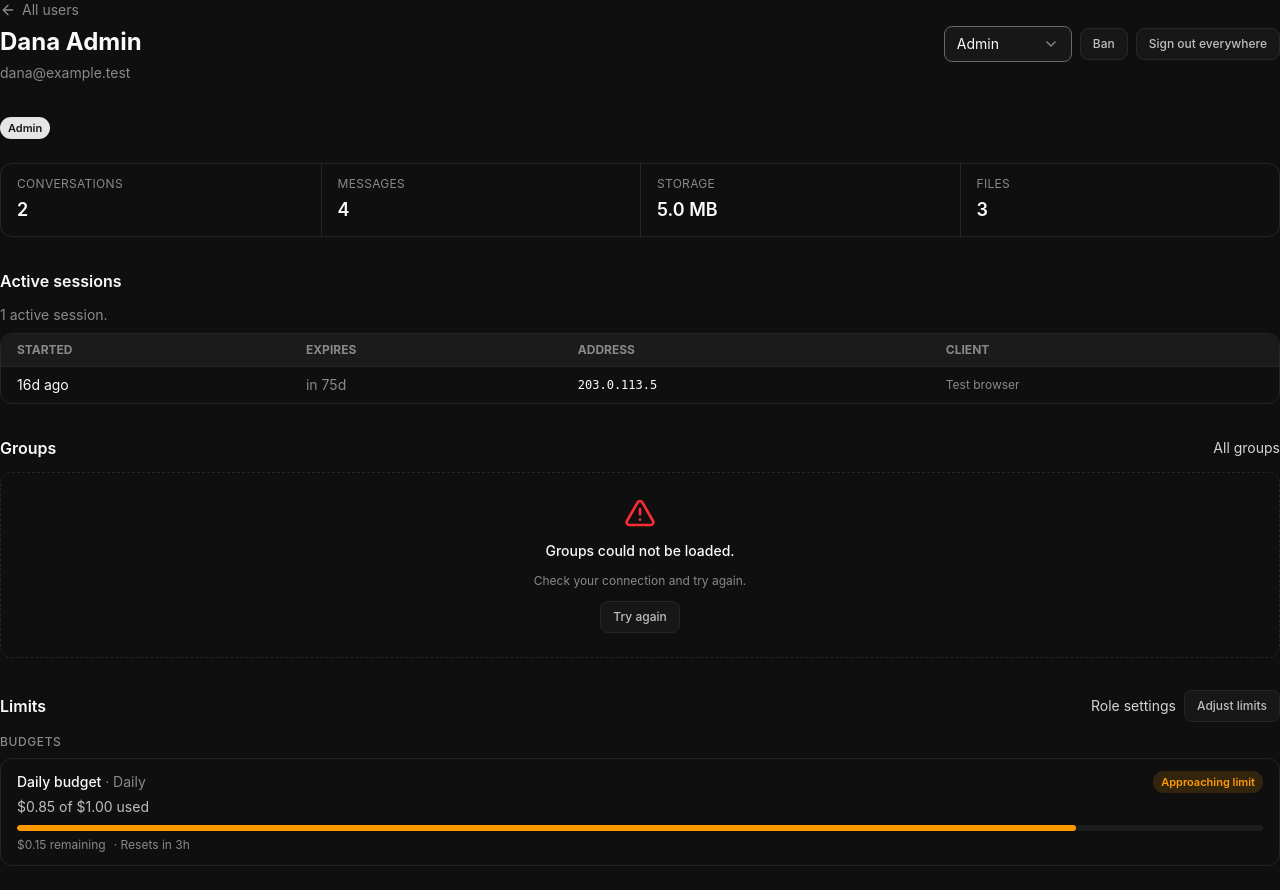
Test: user detail actions › confirms before removing administrator access and sends the new role
Click the dropdown labelled "Admin" at (1008, 44), box [944,26,1072,62]
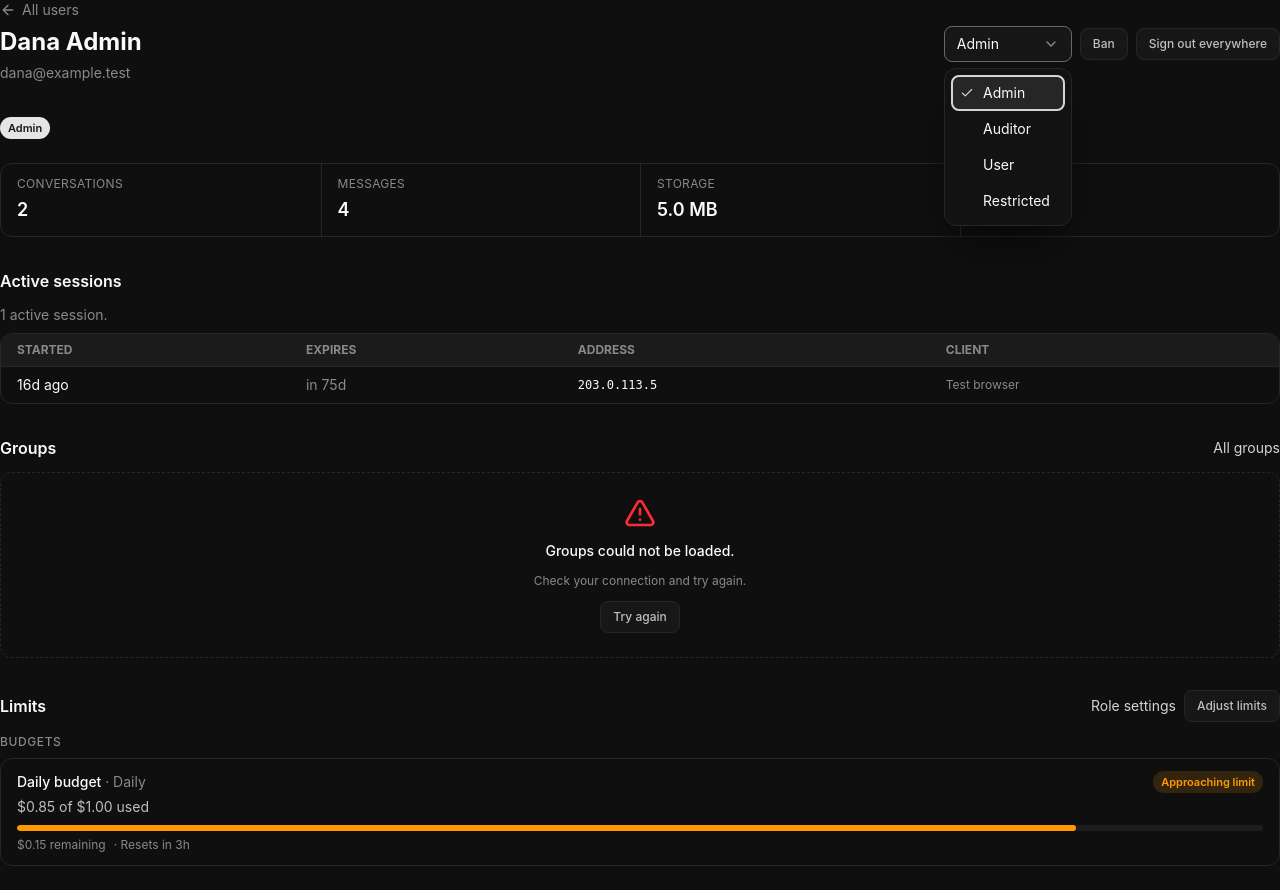
Click the option "User" at (999, 164), box [983,156,1014,173]
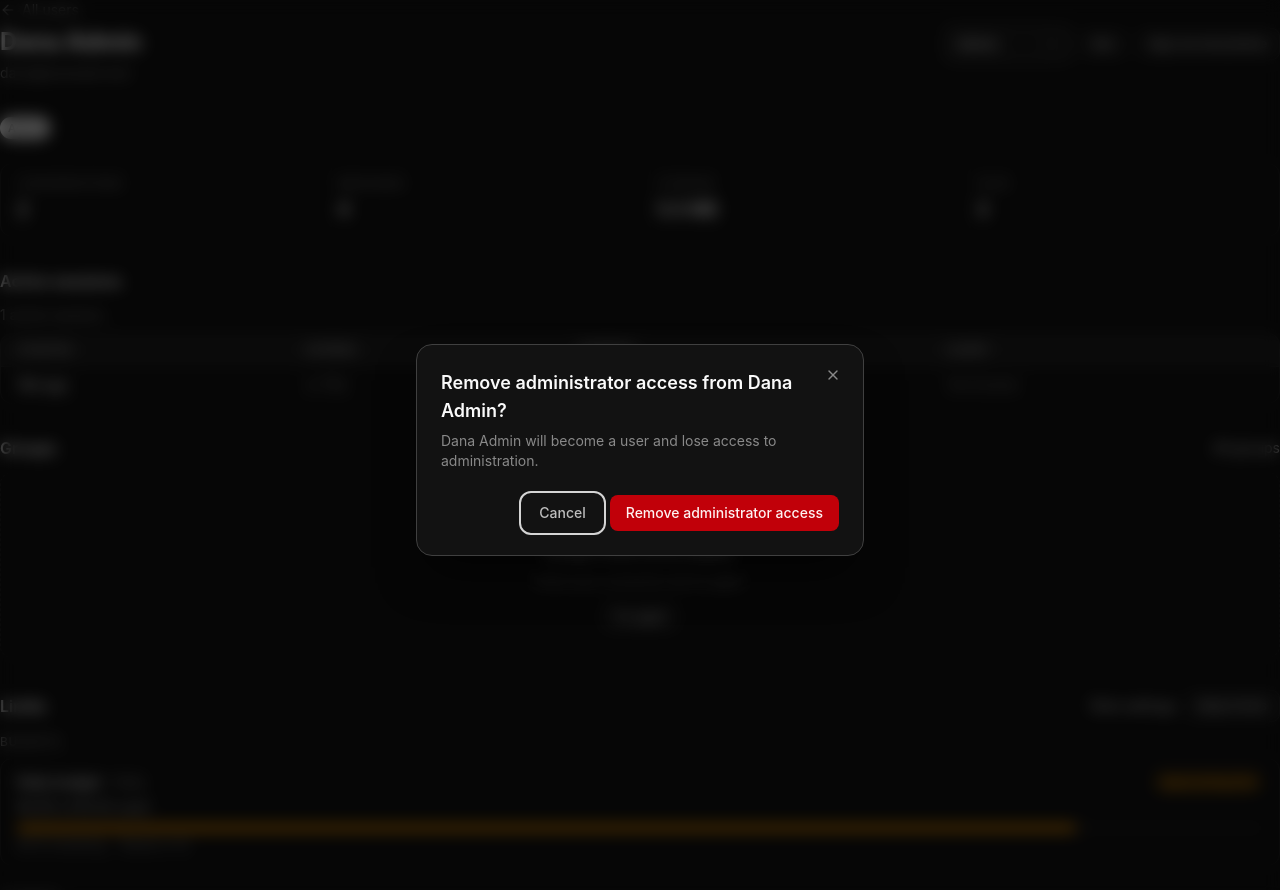
Expected: the dialog shows "Remove administrator access from Dana Admin?", [441,372,792,421]
Click the button "Remove administrator access" at (724, 513), box [610,495,839,531]
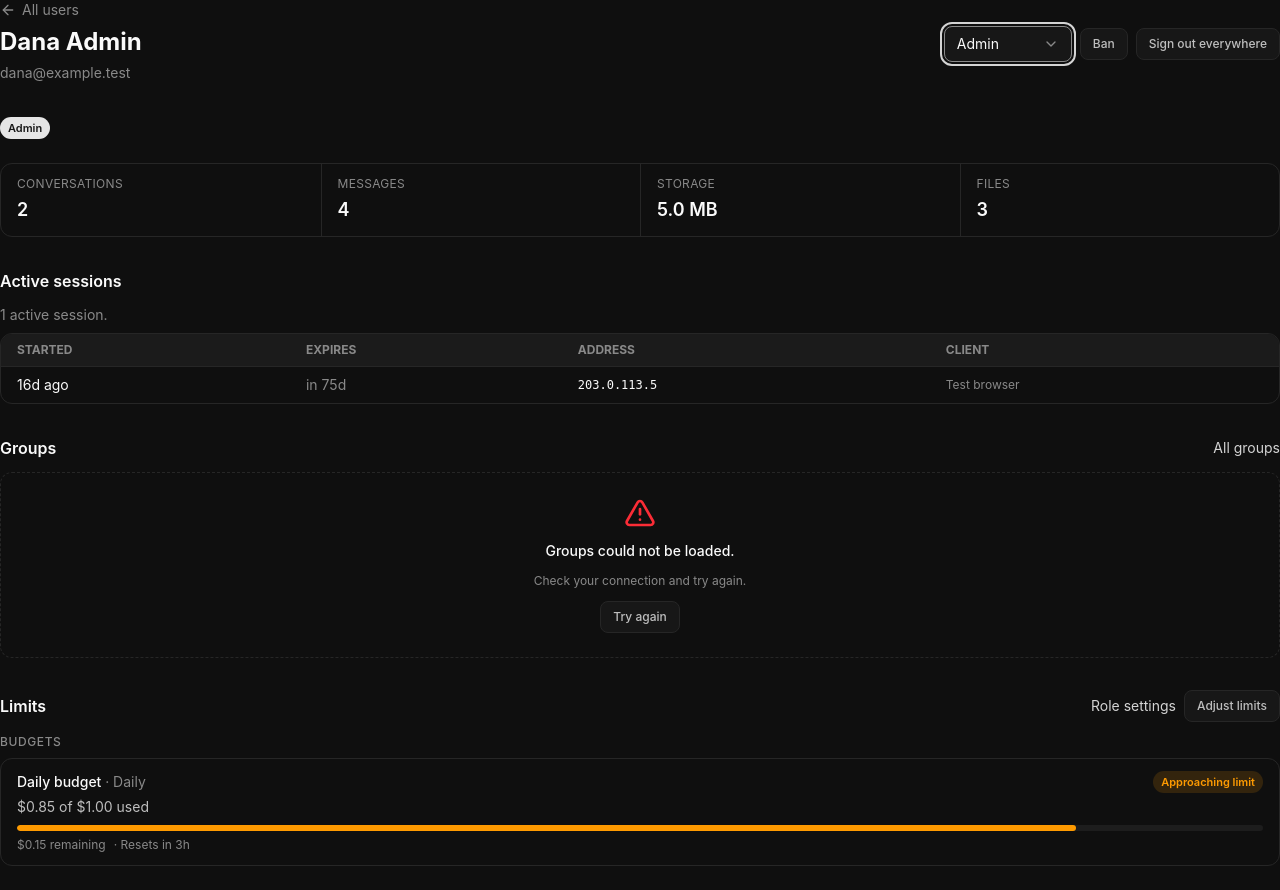
Expected: the dialog is gone
